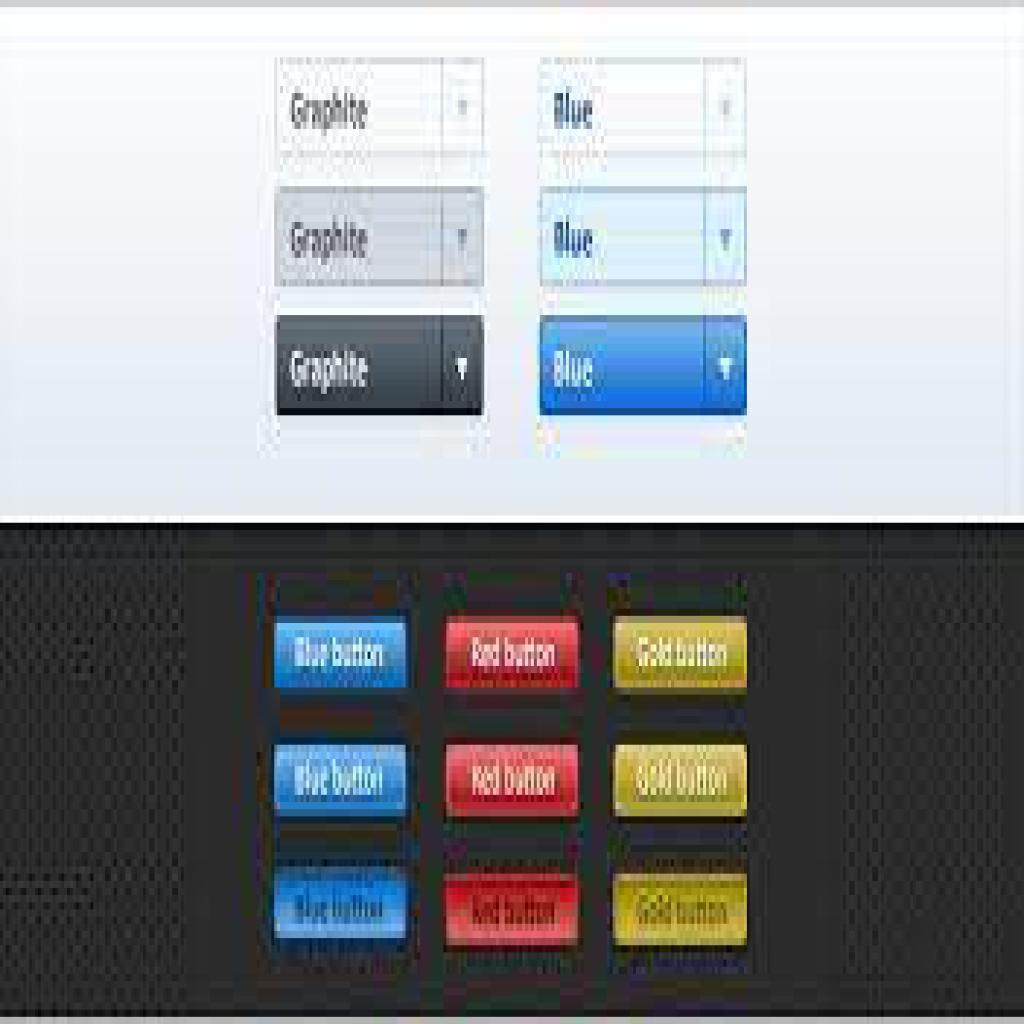button: (274, 862, 408, 939), (274, 621, 411, 696), (274, 746, 411, 820), (614, 621, 750, 692), (446, 621, 580, 693), (449, 745, 580, 818), (615, 876, 748, 946), (443, 879, 577, 946), (615, 749, 748, 814)
dropdown: (538, 186, 751, 290), (274, 185, 486, 287), (274, 62, 485, 163), (276, 317, 486, 417), (541, 59, 744, 161), (541, 317, 747, 415)
